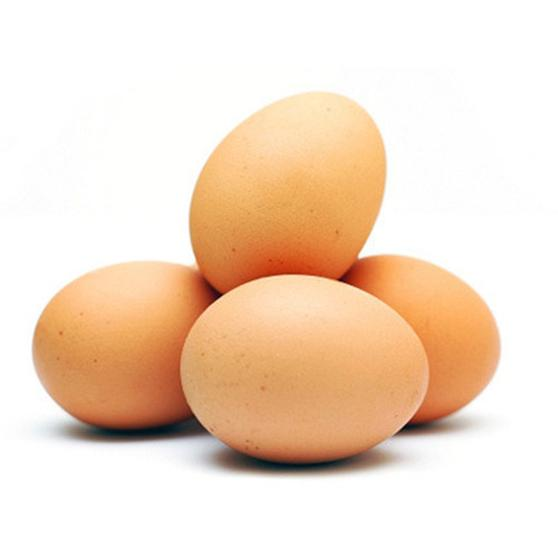egg: (180, 273, 430, 473), (192, 85, 386, 287)
